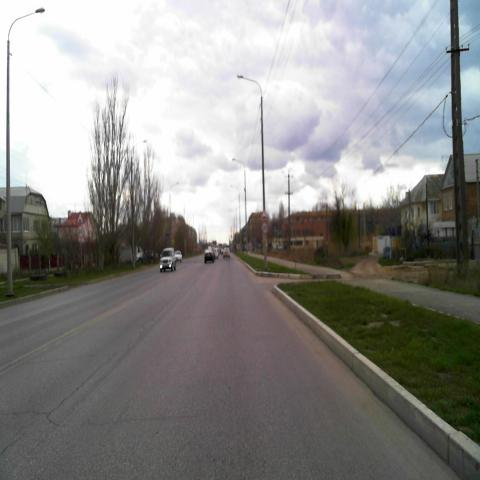1_17: (76, 210, 84, 223)
